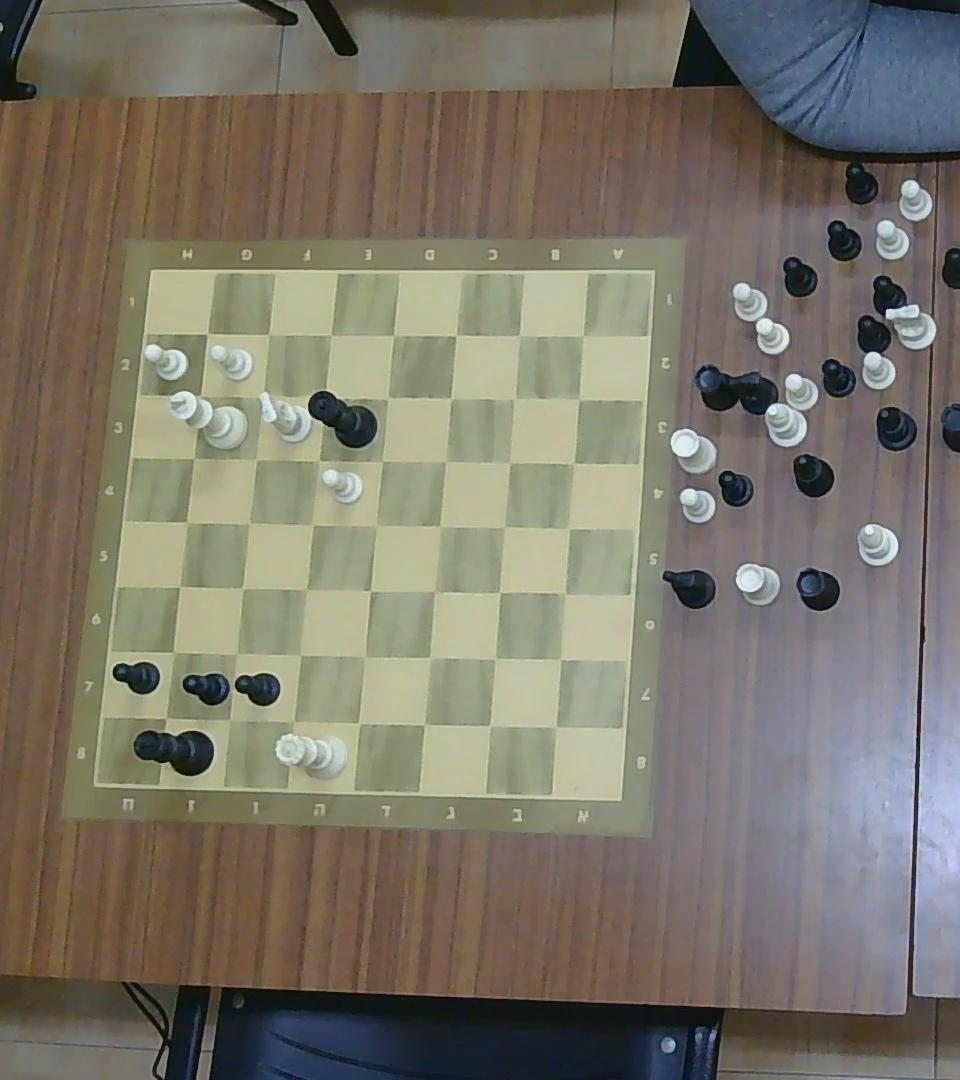xcorner: (477, 712, 503, 739), (246, 383, 272, 409), (542, 714, 569, 739), (412, 711, 437, 736), (418, 645, 442, 670), (482, 647, 506, 671), (347, 710, 371, 734), (154, 705, 178, 729), (281, 710, 305, 733), (353, 644, 376, 668), (288, 642, 311, 666), (549, 648, 571, 670), (319, 324, 341, 346), (218, 709, 240, 731), (439, 387, 461, 408), (371, 449, 392, 471), (225, 643, 246, 665), (558, 518, 581, 538), (423, 581, 444, 602), (445, 324, 465, 346), (188, 386, 210, 406), (376, 387, 396, 408), (366, 514, 386, 535), (488, 582, 509, 602), (499, 450, 519, 471), (170, 576, 190, 597), (296, 577, 315, 599), (429, 516, 449, 536), (183, 447, 203, 467), (555, 582, 575, 602), (259, 324, 279, 344), (383, 325, 403, 345), (247, 448, 266, 469), (435, 450, 454, 471), (164, 642, 183, 663), (302, 514, 321, 534), (361, 580, 380, 600), (198, 322, 217, 342), (309, 450, 328, 470), (177, 511, 196, 531), (564, 454, 584, 473), (232, 579, 252, 598), (315, 386, 334, 406), (240, 513, 259, 532), (510, 326, 529, 345), (495, 516, 513, 536), (573, 326, 591, 345), (505, 389, 523, 406), (572, 390, 588, 406)
